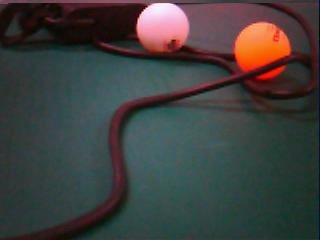oball: (234, 21, 291, 80)
